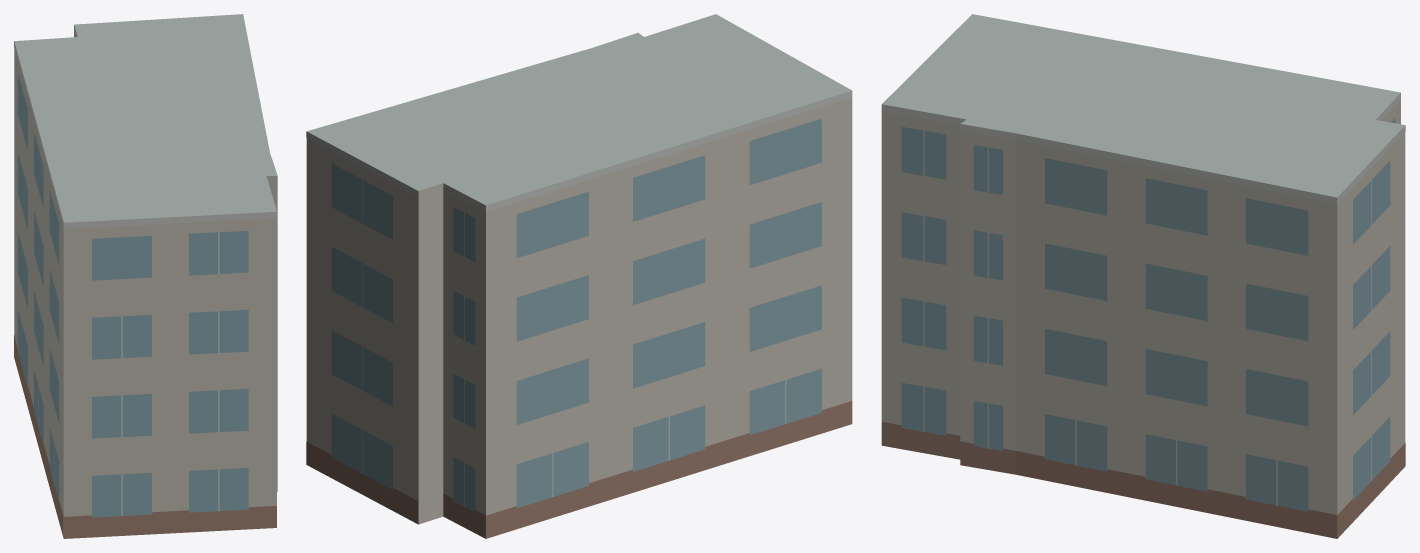
Rendered from survey-upis-32641864.glb.
The picture shows the model from 3 angles, left to right: view 1: azimuth 30°, elevation 25°; view 2: azimuth 150°, elevation 25°; view 3: azimuth 270°, elevation 25°; orthographic projection. The views are drawn at different scales.
Visible parts, largest first — view 1: survey-upis-32641864.tmp; view 2: survey-upis-32641864.tmp; view 3: survey-upis-32641864.tmp.
Part boxes in pixels (<box>): survey-upis-32641864.tmp: <box>14,14,277,538</box>; survey-upis-32641864.tmp: <box>306,14,852,538</box>; survey-upis-32641864.tmp: <box>881,14,1405,538</box>.
Bounding box in the file's own units: 14.08 × 12.2 × 16.98.
